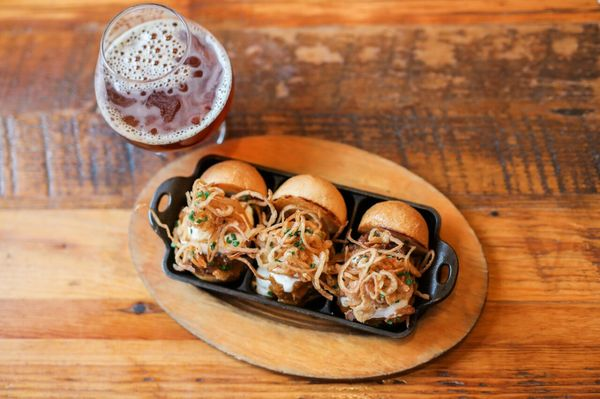sushi: (139, 135, 481, 342), (95, 5, 235, 149)
